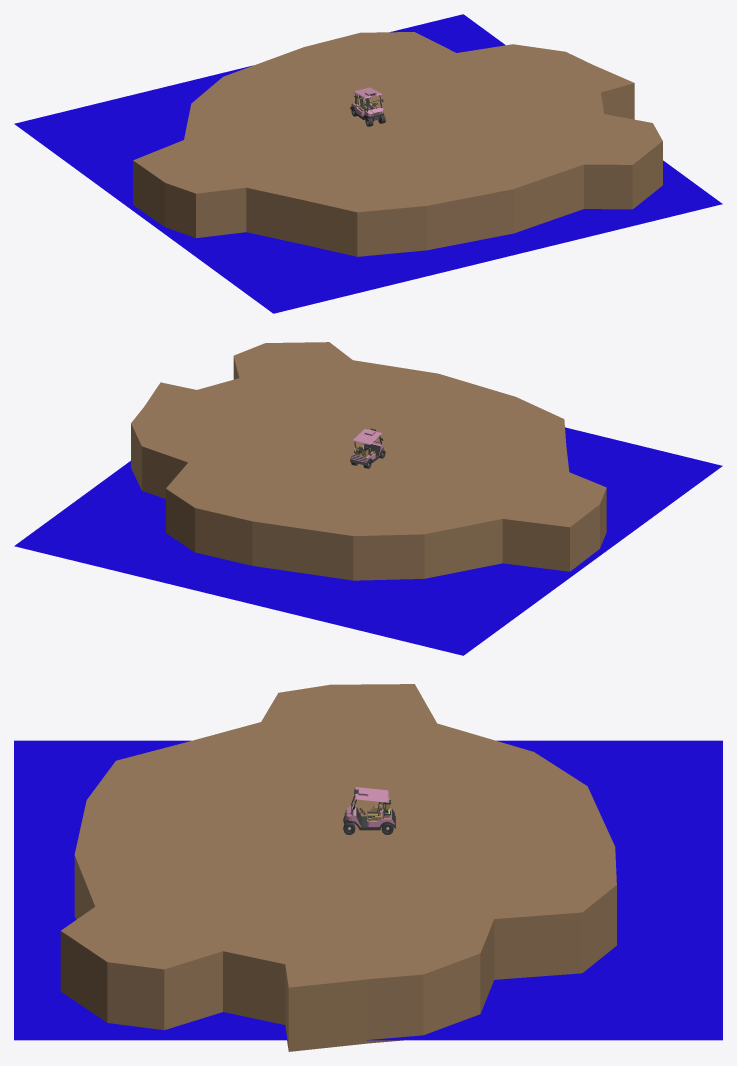
The picture shows the model from 3 angles, top to bottom: view 1: azimuth 30°, elevation 25°; view 2: azimuth 150°, elevation 25°; view 3: azimuth 270°, elevation 25°; orthographic projection. The views are drawn at different scales.
Parts seen in each view (by area): view 1: Vert.010, Plane.002; view 2: Vert.010, Plane.002; view 3: Vert.010, Plane.002.
Part boxes in pixels (x1,y1,x2,y2): Vert.010: (133, 32, 662, 256); Plane.002: (14, 14, 722, 313); Vert.010: (131, 342, 606, 580); Plane.002: (14, 427, 722, 655); Vert.010: (60, 684, 616, 1051); Plane.002: (14, 740, 722, 1040).
Bounding box in the file's own units: 20.55 × 3.22 × 20.
